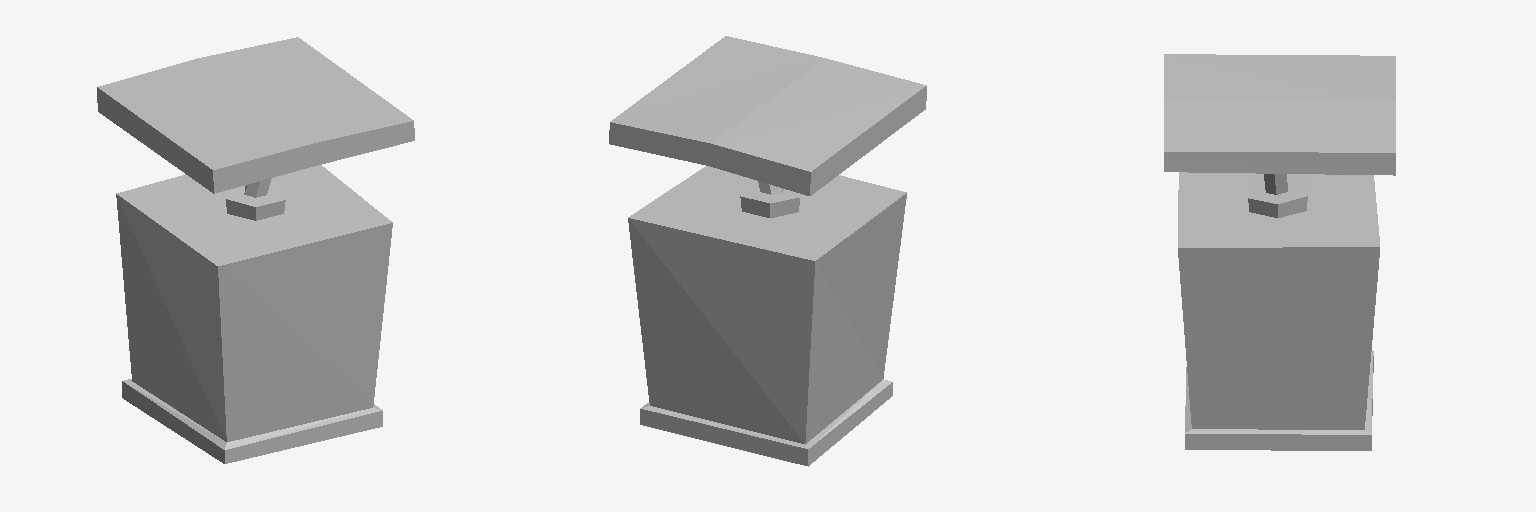
The model's file is NitroDetonator.obj.
3 views of the same model, side by side, from view 1: azimuth 30°, elevation 25°; view 2: azimuth 150°, elevation 25°; view 3: azimuth 270°, elevation 25° (orthographic).
Parts seen in each view (by area): view 1: deactivated; view 2: deactivated; view 3: deactivated.
Boxes of the visible parts, x1,y1,x2,y2 form: deactivated: [97, 37, 414, 463]; deactivated: [609, 36, 926, 466]; deactivated: [1164, 54, 1395, 450].
Size of the model in its own units: 1.97 by 2.9 by 1.96.